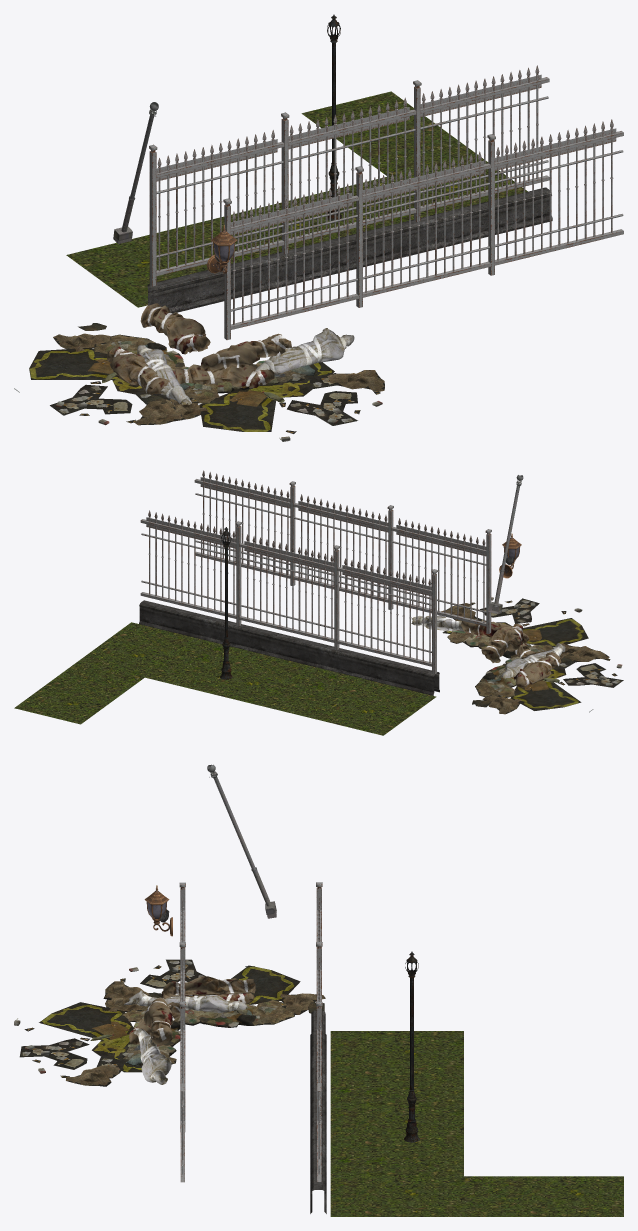
File: sm301_01_201room_03.fbx
3 views of the same model, one above another, from view 1: azimuth 30°, elevation 25°; view 2: azimuth 150°, elevation 25°; view 3: azimuth 270°, elevation 25° (orthographic). The views are drawn at different scales.
Visible parts, largest first — view 1: 0040_sm25066townFence01A00ms_1_Group_0_Sub_1__st1_townP_4d6, 0011_st42010Terrain00ms_1_Group_0_Sub_12__st1_GroundWild01_, 0047_sm25011garbage01A00ms_1_Group_0_Sub_1__sm25_011_ga_d81, 0003_st42010Terrain00ms_1_Group_0_Sub_4__st1_townPolice00_M, 0044_sm26031humanBag01A00ms_1_Group_0_Sub_1__sm26_031_h_5b2, 0043_sm26033humanBag02A00ms_1_Group_0_Sub_1__sm26_033_h_3d6, 0042_sm26032humanBag01B00ms_1_Group_0_Sub_1__sm26_032_h_0dd, 0056_sm21041RpdFlag02A00ms_1_Group_2_Sub_1__sm21_026_Rp_5b0, 0099_sm35021StreetLightC01A00ms_1_Group_0_Sub_2__sm35_0_f14, 0039_sm35033WallLampA01A00ms_1_Group_0_Sub_1__sm35_033__38d; view 2: 0040_sm25066townFence01A00ms_1_Group_0_Sub_1__st1_townP_4d6, 0011_st42010Terrain00ms_1_Group_0_Sub_12__st1_GroundWild01_, 0047_sm25011garbage01A00ms_1_Group_0_Sub_1__sm25_011_ga_d81, 0003_st42010Terrain00ms_1_Group_0_Sub_4__st1_townPolice00_M, 0044_sm26031humanBag01A00ms_1_Group_0_Sub_1__sm26_031_h_5b2, 0043_sm26033humanBag02A00ms_1_Group_0_Sub_1__sm26_033_h_3d6, 0099_sm35021StreetLightC01A00ms_1_Group_0_Sub_2__sm35_0_f14, 0056_sm21041RpdFlag02A00ms_1_Group_2_Sub_1__sm21_026_Rp_5b0, 0042_sm26032humanBag01B00ms_1_Group_0_Sub_1__sm26_032_h_0dd, 0039_sm35033WallLampA01A00ms_1_Group_0_Sub_1__sm35_033__38d; view 3: 0011_st42010Terrain00ms_1_Group_0_Sub_12__st1_GroundWild01_, 0047_sm25011garbage01A00ms_1_Group_0_Sub_1__sm25_011_ga_d81, 0040_sm25066townFence01A00ms_1_Group_0_Sub_1__st1_townP_4d6, 0043_sm26033humanBag02A00ms_1_Group_0_Sub_1__sm26_033_h_3d6, 0003_st42010Terrain00ms_1_Group_0_Sub_4__st1_townPolice00_M, 0044_sm26031humanBag01A00ms_1_Group_0_Sub_1__sm26_031_h_5b2, 0099_sm35021StreetLightC01A00ms_1_Group_0_Sub_2__sm35_0_f14, 0042_sm26032humanBag01B00ms_1_Group_0_Sub_1__sm26_032_h_0dd, 0056_sm21041RpdFlag02A00ms_1_Group_2_Sub_1__sm21_026_Rp_5b0, 0039_sm35033WallLampA01A00ms_1_Group_0_Sub_1__sm35_033__38d.
Boxes of the visible parts, x1,y1,x2,y2 form: 0040_sm25066townFence01A00ms_1_Group_0_Sub_1__st1_townP_4d6: [149, 65, 623, 339]; 0011_st42010Terrain00ms_1_Group_0_Sub_12__st1_GroundWild01_: [66, 91, 527, 307]; 0047_sm25011garbage01A00ms_1_Group_0_Sub_1__sm25_011_ga_d81: [29, 323, 384, 441]; 0003_st42010Terrain00ms_1_Group_0_Sub_4__st1_townPolice00_M: [147, 187, 552, 313]; 0044_sm26031humanBag01A00ms_1_Group_0_Sub_1__sm26_031_h_5b2: [107, 303, 274, 394]; 0043_sm26033humanBag02A00ms_1_Group_0_Sub_1__sm26_033_h_3d6: [137, 328, 354, 404]; 0042_sm26032humanBag01B00ms_1_Group_0_Sub_1__sm26_032_h_0dd: [200, 333, 291, 371]; 0056_sm21041RpdFlag02A00ms_1_Group_2_Sub_1__sm21_026_Rp_5b0: [113, 102, 158, 244]; 0099_sm35021StreetLightC01A00ms_1_Group_0_Sub_2__sm35_0_f14: [327, 14, 342, 220]; 0039_sm35033WallLampA01A00ms_1_Group_0_Sub_1__sm35_033__38d: [206, 225, 237, 273]; 0040_sm25066townFence01A00ms_1_Group_0_Sub_1__st1_townP_4d6: [140, 470, 491, 674]; 0011_st42010Terrain00ms_1_Group_0_Sub_12__st1_GroundWild01_: [14, 622, 436, 735]; 0047_sm25011garbage01A00ms_1_Group_0_Sub_1__sm25_011_ga_d81: [441, 597, 623, 714]; 0003_st42010Terrain00ms_1_Group_0_Sub_4__st1_townPolice00_M: [139, 600, 439, 695]; 0044_sm26031humanBag01A00ms_1_Group_0_Sub_1__sm26_031_h_5b2: [481, 623, 561, 687]; 0043_sm26033humanBag02A00ms_1_Group_0_Sub_1__sm26_033_h_3d6: [411, 615, 565, 678]; 0099_sm35021StreetLightC01A00ms_1_Group_0_Sub_2__sm35_0_f14: [220, 527, 232, 679]; 0056_sm21041RpdFlag02A00ms_1_Group_2_Sub_1__sm21_026_Rp_5b0: [488, 475, 523, 614]; 0042_sm26032humanBag01B00ms_1_Group_0_Sub_1__sm26_032_h_0dd: [460, 618, 529, 643]; 0039_sm35033WallLampA01A00ms_1_Group_0_Sub_1__sm35_033__38d: [499, 533, 521, 578]; 0011_st42010Terrain00ms_1_Group_0_Sub_12__st1_GroundWild01_: [330, 1031, 623, 1216]; 0047_sm25011garbage01A00ms_1_Group_0_Sub_1__sm25_011_ga_d81: [14, 959, 325, 1086]; 0040_sm25066townFence01A00ms_1_Group_0_Sub_1__st1_townP_4d6: [179, 882, 322, 1182]; 0043_sm26033humanBag02A00ms_1_Group_0_Sub_1__sm26_033_h_3d6: [124, 990, 247, 1084]; 0003_st42010Terrain00ms_1_Group_0_Sub_4__st1_townPolice00_M: [310, 1010, 326, 1213]; 0044_sm26031humanBag01A00ms_1_Group_0_Sub_1__sm26_031_h_5b2: [129, 976, 255, 1044]; 0099_sm35021StreetLightC01A00ms_1_Group_0_Sub_2__sm35_0_f14: [404, 951, 419, 1142]; 0042_sm26032humanBag01B00ms_1_Group_0_Sub_1__sm26_032_h_0dd: [143, 998, 173, 1046]; 0056_sm21041RpdFlag02A00ms_1_Group_2_Sub_1__sm21_026_Rp_5b0: [207, 764, 276, 918]; 0039_sm35033WallLampA01A00ms_1_Group_0_Sub_1__sm35_033__38d: [144, 885, 172, 936].
Size of the model in its own units: 13.1 by 5.98 by 12.96.
